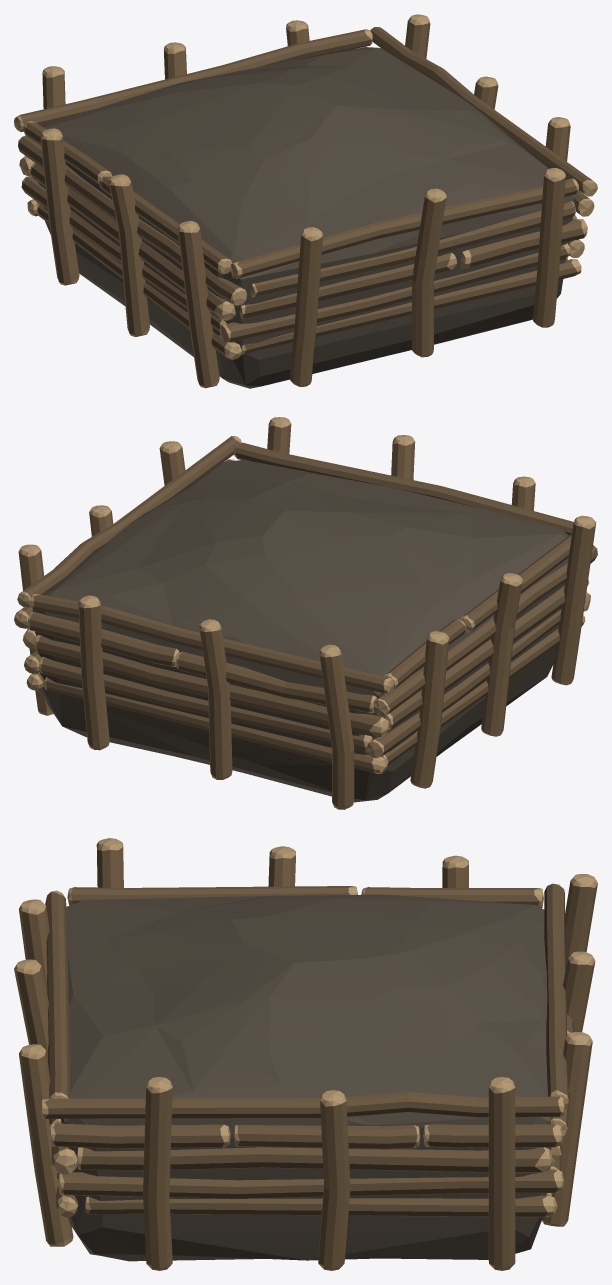
3 views of the same model, one above another, from view 1: azimuth 30°, elevation 25°; view 2: azimuth 150°, elevation 25°; view 3: azimuth 270°, elevation 25° (orthographic). The views are drawn at different scales.
Parts seen in each view (by area): view 1: SM_Bld_Wharf_01_1; view 2: SM_Bld_Wharf_01_1; view 3: SM_Bld_Wharf_01_1.
Boxes of the visible parts, box(x1,y1,x2,y2) form: SM_Bld_Wharf_01_1: box(14, 14, 597, 388); SM_Bld_Wharf_01_1: box(14, 417, 597, 809); SM_Bld_Wharf_01_1: box(14, 838, 597, 1270).
Size of the model in its own units: 9.04 by 4.01 by 9.12.
Materials: 1 (1 with a texture image).
